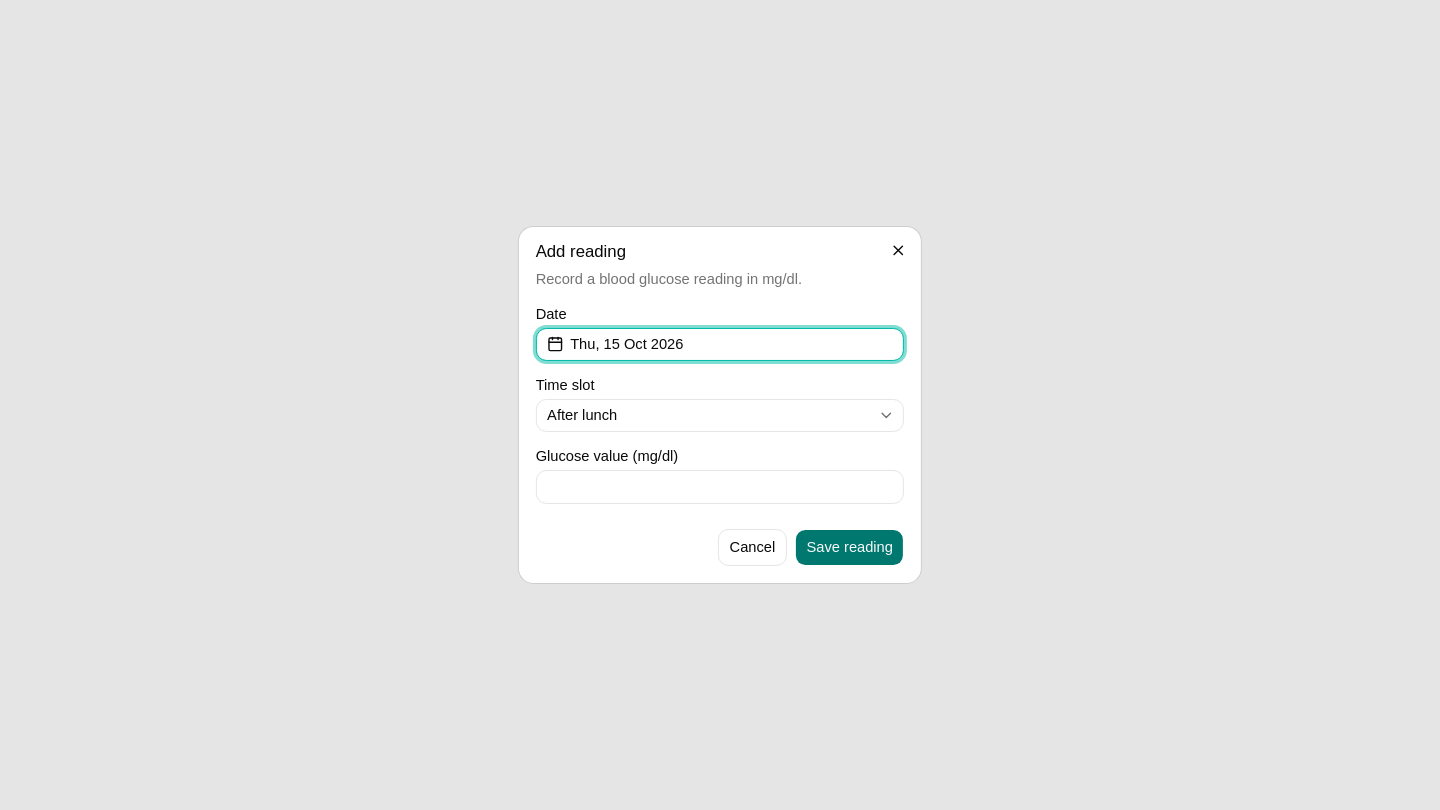
Test: ReadingDialog › shows the required message and focuses the value input on an empty submit
Click the button "Save reading" at {"x": 850, "y": 547}, box x1=795 y1=529 x2=904 y2=566
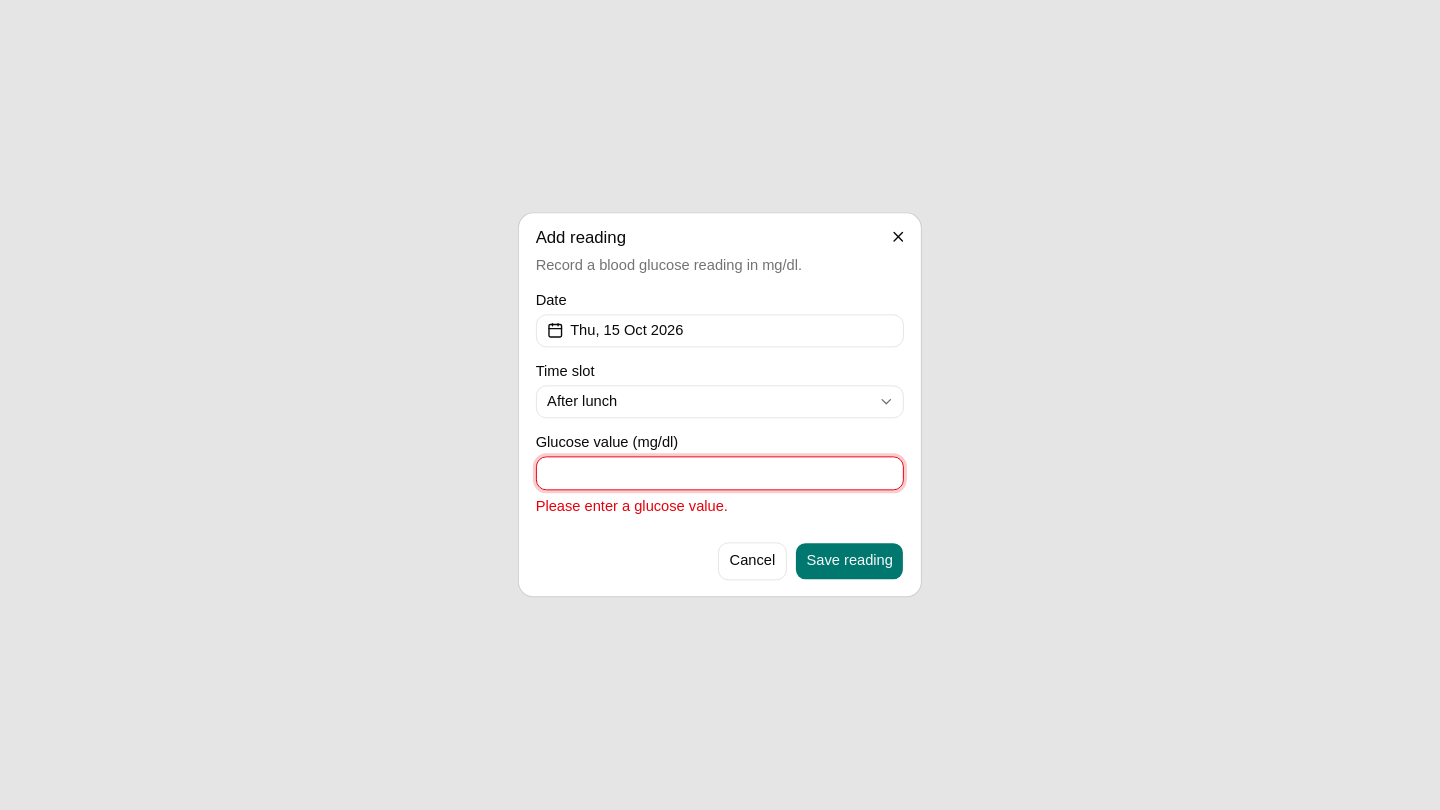
Expected: the text "Please enter a glucose value." is shown, x1=536 y1=498 x2=728 y2=514
